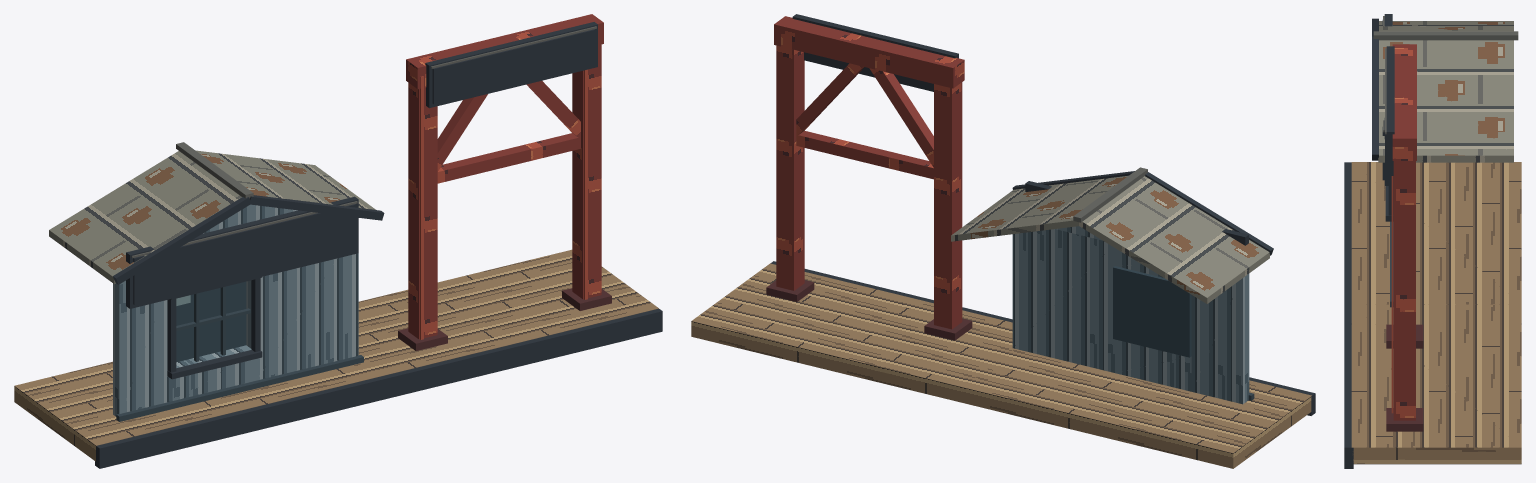
File: insurance_pixel_sample.glb
3 views of the same model, side by side, from view 1: azimuth 30°, elevation 25°; view 2: azimuth 150°, elevation 25°; view 3: azimuth 270°, elevation 25° (orthographic). The views are drawn at different scales.
Visible parts, largest first — view 1: INS_DockGeometry, INS_OfficeGeometry, INS_CraneGeometry, INS_RoofGeometry; view 2: INS_DockGeometry, INS_OfficeGeometry, INS_CraneGeometry, INS_RoofGeometry; view 3: INS_DockGeometry, INS_RoofGeometry, INS_CraneGeometry, INS_OfficeGeometry.
Boxes of the visible parts, box(x1,y1,x2,y2) form: INS_DockGeometry: box(14, 249, 662, 468); INS_OfficeGeometry: box(113, 196, 363, 421); INS_CraneGeometry: box(398, 14, 611, 350); INS_RoofGeometry: box(49, 142, 384, 284); INS_DockGeometry: box(691, 261, 1315, 468); INS_OfficeGeometry: box(1012, 181, 1254, 404); INS_CraneGeometry: box(766, 14, 972, 340); INS_RoofGeometry: box(951, 167, 1273, 303); INS_DockGeometry: box(1344, 162, 1521, 468); INS_RoofGeometry: box(1372, 18, 1518, 162); INS_CraneGeometry: box(1385, 44, 1423, 431); INS_OfficeGeometry: box(1382, 14, 1393, 307).
Size of the model in its own units: 12.7 by 6.53 by 3.34.
Materials: 9 (2 with a texture image).
